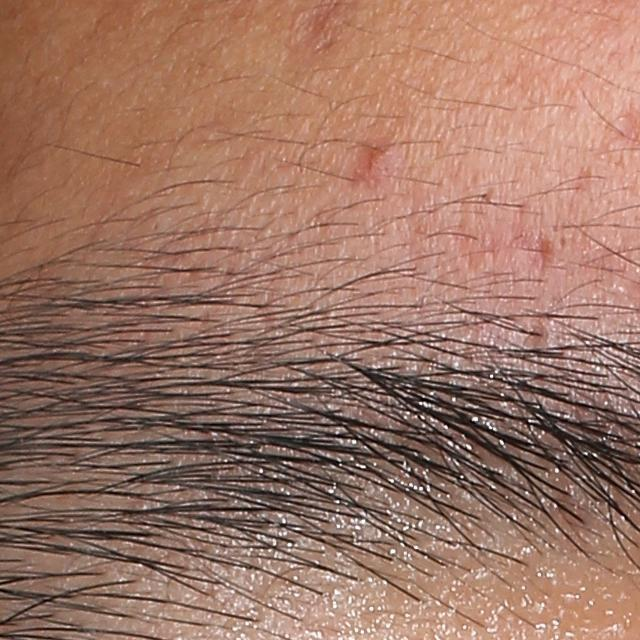atrophic_scar: (424, 204, 622, 277)
papule: (355, 148, 394, 183)
